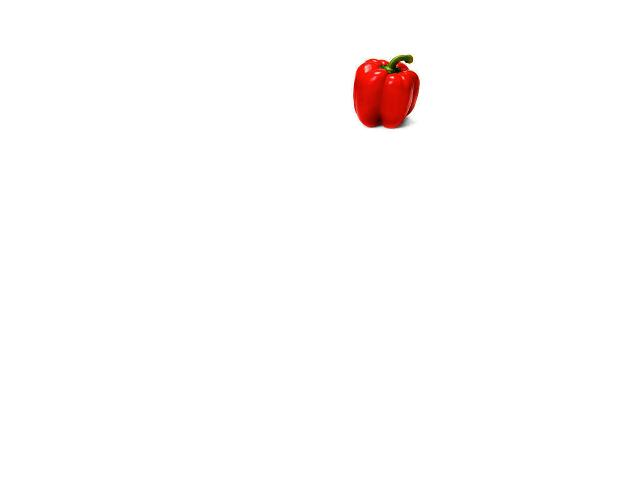bell_pepper: (351, 53, 419, 129)
